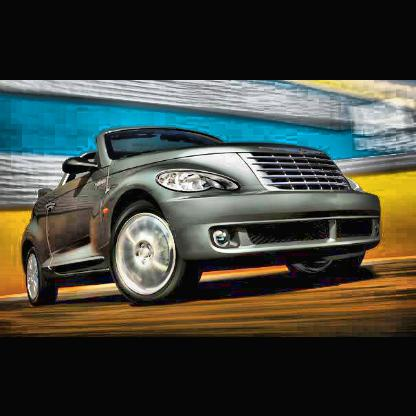Chrysler PT Cruiser Convertible 2008: (20, 126, 382, 309)
